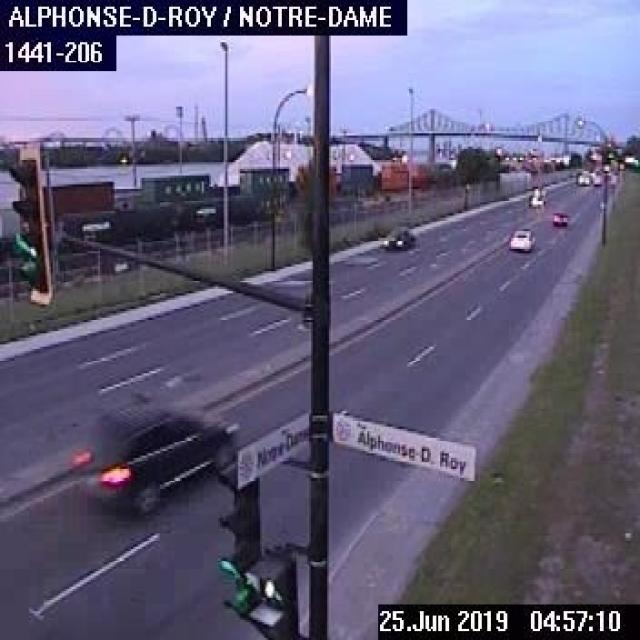vehicle: (76, 400, 235, 516), (380, 227, 414, 249), (509, 224, 538, 249), (528, 185, 546, 206), (549, 211, 567, 225), (575, 170, 590, 186)
